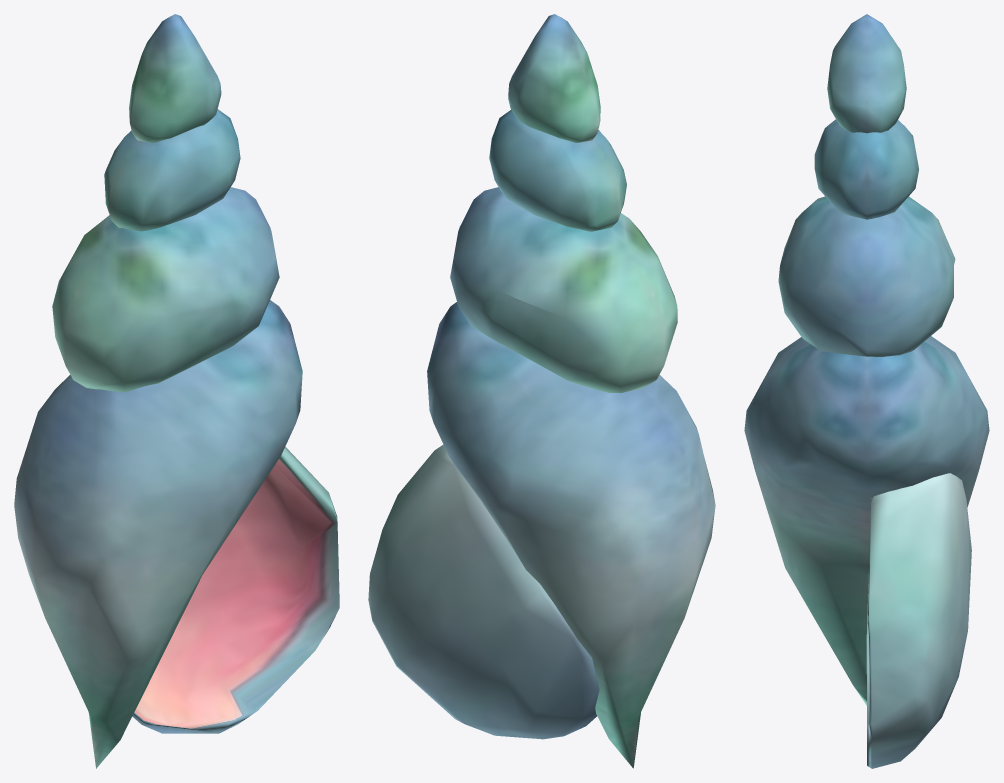
Rendered from conchshell.glb.
The picture shows the model from 3 angles, left to right: view 1: azimuth 30°, elevation 25°; view 2: azimuth 150°, elevation 25°; view 3: azimuth 270°, elevation 25°; orthographic projection.
Visible parts, largest first — view 1: conchshell; view 2: conchshell; view 3: conchshell.
Part boxes in pixels (box(x1,y1,x2,y2)): conchshell: box(14, 14, 339, 768); conchshell: box(368, 14, 715, 768); conchshell: box(744, 14, 989, 768).
Size of the model in its own units: 0.2724 by 0.6217 by 0.1892.
Materials: 1 (1 with a texture image).
